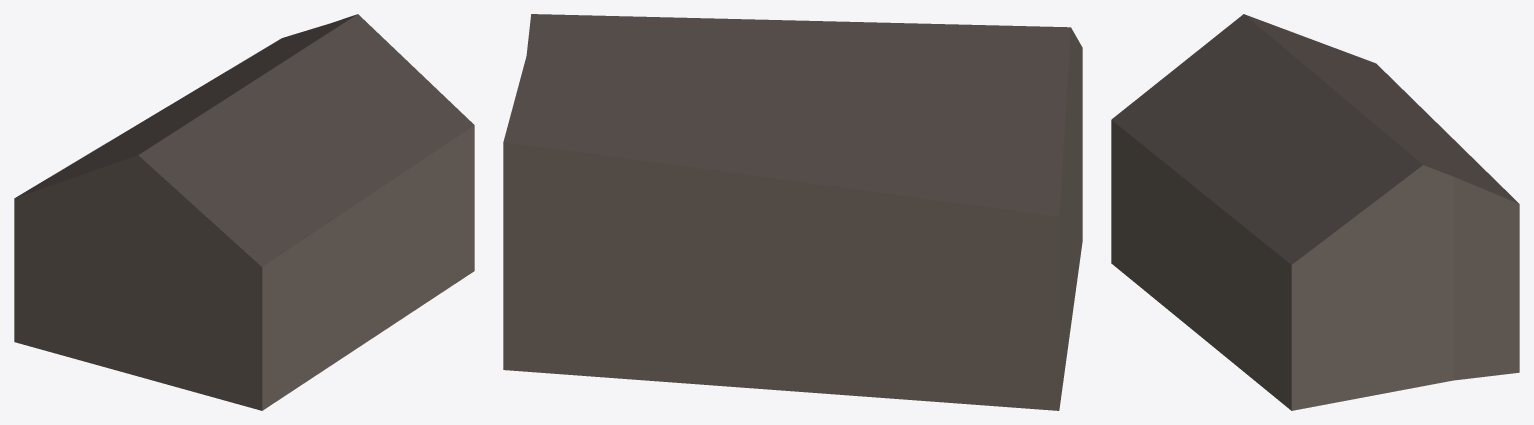
The picture shows the model from 3 angles, left to right: view 1: azimuth 30°, elevation 25°; view 2: azimuth 150°, elevation 25°; view 3: azimuth 270°, elevation 25°; orthographic projection. The views are drawn at different scales.
Visible parts, largest first — view 1: HP-w1515076975; view 2: HP-w1515076975; view 3: HP-w1515076975.
Boxes of the visible parts, <box> form: HP-w1515076975: <box>14,14,474,410</box>; HP-w1515076975: <box>503,14,1082,410</box>; HP-w1515076975: <box>1111,14,1519,410</box>.
Bounding box in the file's own units: 18.27 × 9.24 × 15.47.
